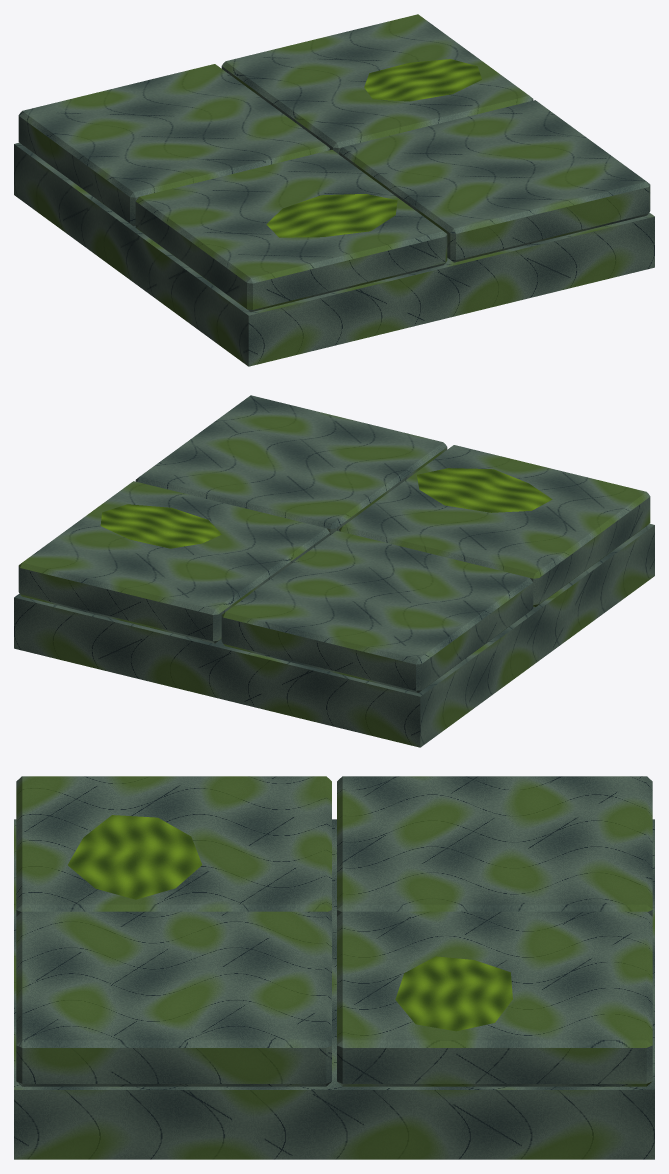
File: temple-floor-tile.glb
3 renders of one model, top to bottom at view 1: azimuth 30°, elevation 25°; view 2: azimuth 150°, elevation 25°; view 3: azimuth 270°, elevation 25°, orthographic. The views are drawn at different scales.
Visible parts, largest first — view 1: temple-floor-tile_kit-stone, temple-floor-tile_kit-moss; view 2: temple-floor-tile_kit-stone, temple-floor-tile_kit-moss; view 3: temple-floor-tile_kit-stone, temple-floor-tile_kit-moss.
Part boxes in pixels (<box>): temple-floor-tile_kit-stone: <box>14,14,654,366</box>; temple-floor-tile_kit-moss: <box>266,59,481,237</box>; temple-floor-tile_kit-stone: <box>14,395,654,747</box>; temple-floor-tile_kit-moss: <box>100,468,552,548</box>; temple-floor-tile_kit-stone: <box>14,776,654,1159</box>; temple-floor-tile_kit-moss: <box>68,815,512,1031</box>.
Bounding box in the file's own units: 2 × 0.415 × 2.
2 materials, 2 textured.
